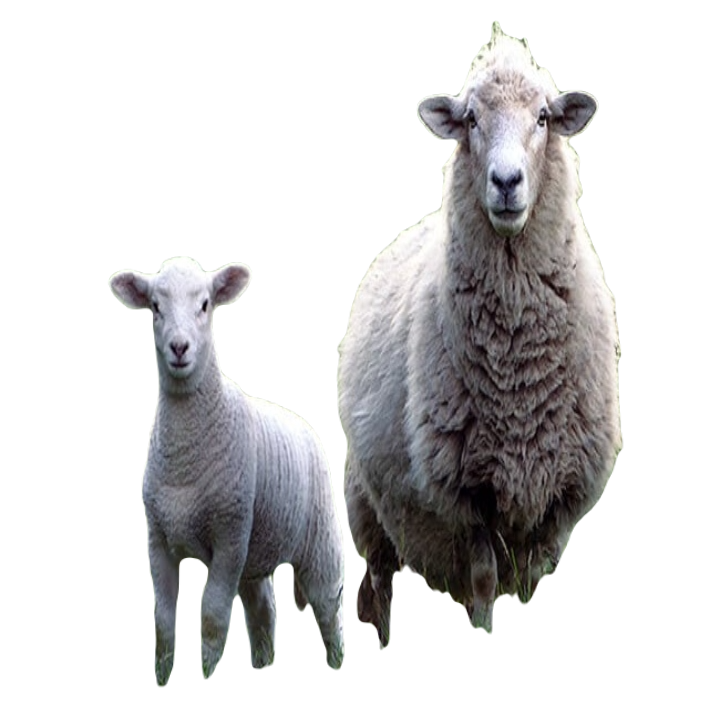Sheep: (347, 17, 628, 655), (106, 253, 343, 699)
